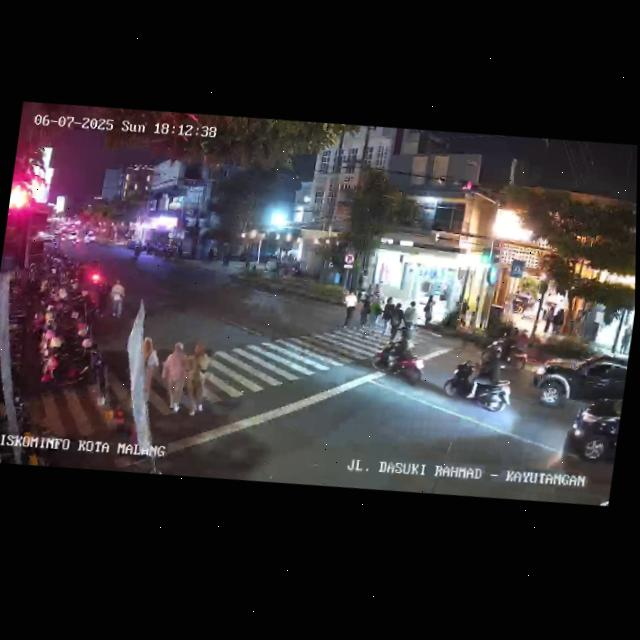car: (527, 348, 628, 418), (560, 385, 623, 471)
motorcycle: (438, 343, 520, 418), (368, 324, 431, 390), (478, 322, 531, 374)
person: (180, 337, 214, 424), (156, 337, 190, 422), (132, 336, 161, 412), (105, 278, 128, 322), (340, 289, 359, 330), (386, 301, 404, 343), (367, 295, 384, 336), (380, 295, 395, 338), (356, 291, 372, 331), (403, 298, 419, 331), (550, 305, 566, 337), (542, 301, 555, 335), (421, 294, 434, 327), (621, 325, 632, 354)
